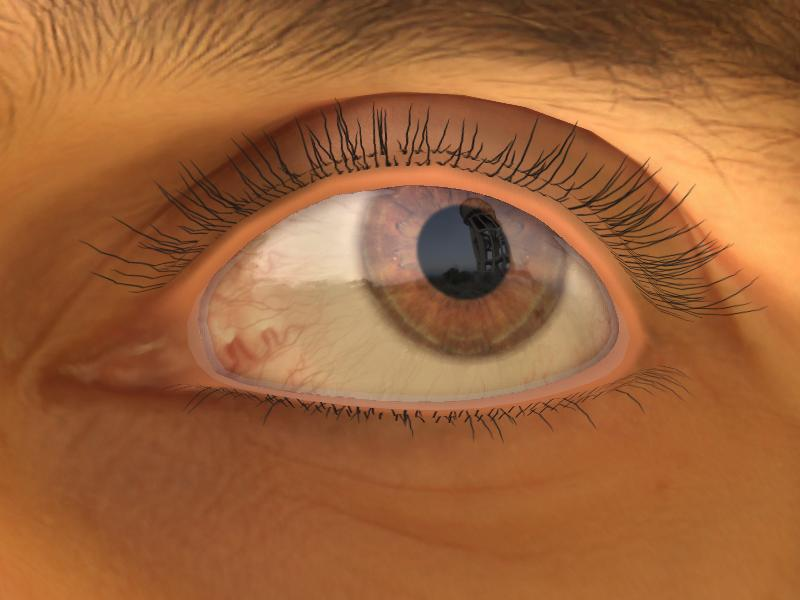eye: (362, 189, 583, 362)
